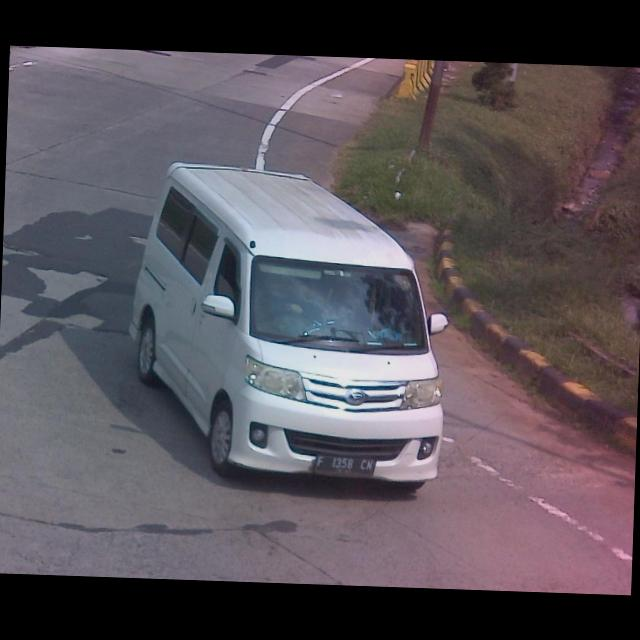plate: (314, 454, 374, 478)
